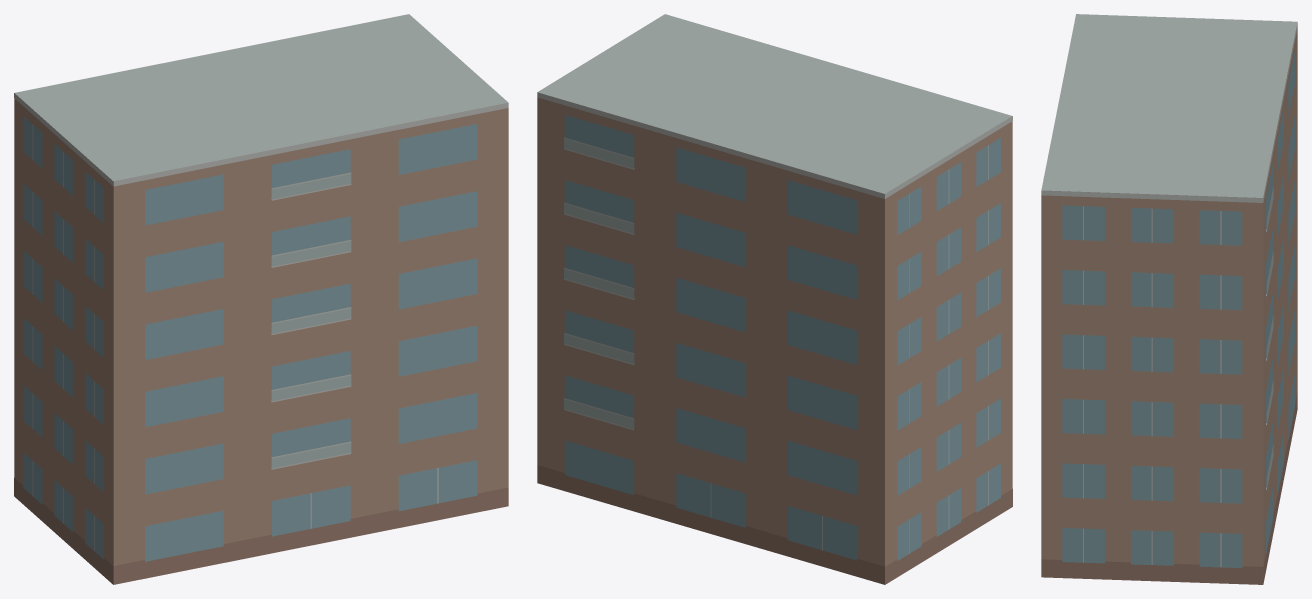
File: survey-upis-32759229.glb
The picture shows the model from 3 angles, left to right: view 1: azimuth 30°, elevation 25°; view 2: azimuth 150°, elevation 25°; view 3: azimuth 270°, elevation 25°; orthographic projection. The views are drawn at different scales.
Parts seen in each view (by area): view 1: survey-upis-32759229.tmp; view 2: survey-upis-32759229.tmp; view 3: survey-upis-32759229.tmp.
Part boxes in pixels (left/top/right/bottom): survey-upis-32759229.tmp: left=14, top=14, right=508, bottom=584; survey-upis-32759229.tmp: left=537, top=14, right=1012, bottom=584; survey-upis-32759229.tmp: left=1041, top=14, right=1297, bottom=584.
Size of the model in its own units: 19.39 by 19 by 11.42.
